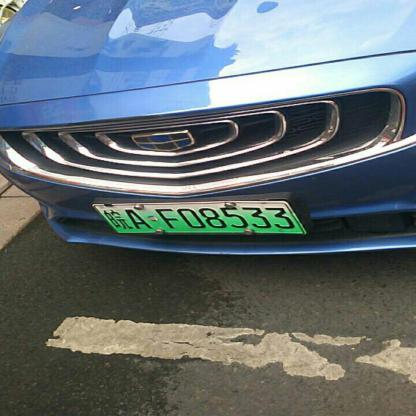lp: (93, 202, 302, 232)
